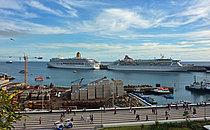Ship: (105, 55, 198, 76), (46, 51, 105, 73)
